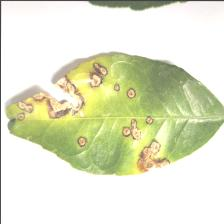canker: (5, 62, 174, 175)
